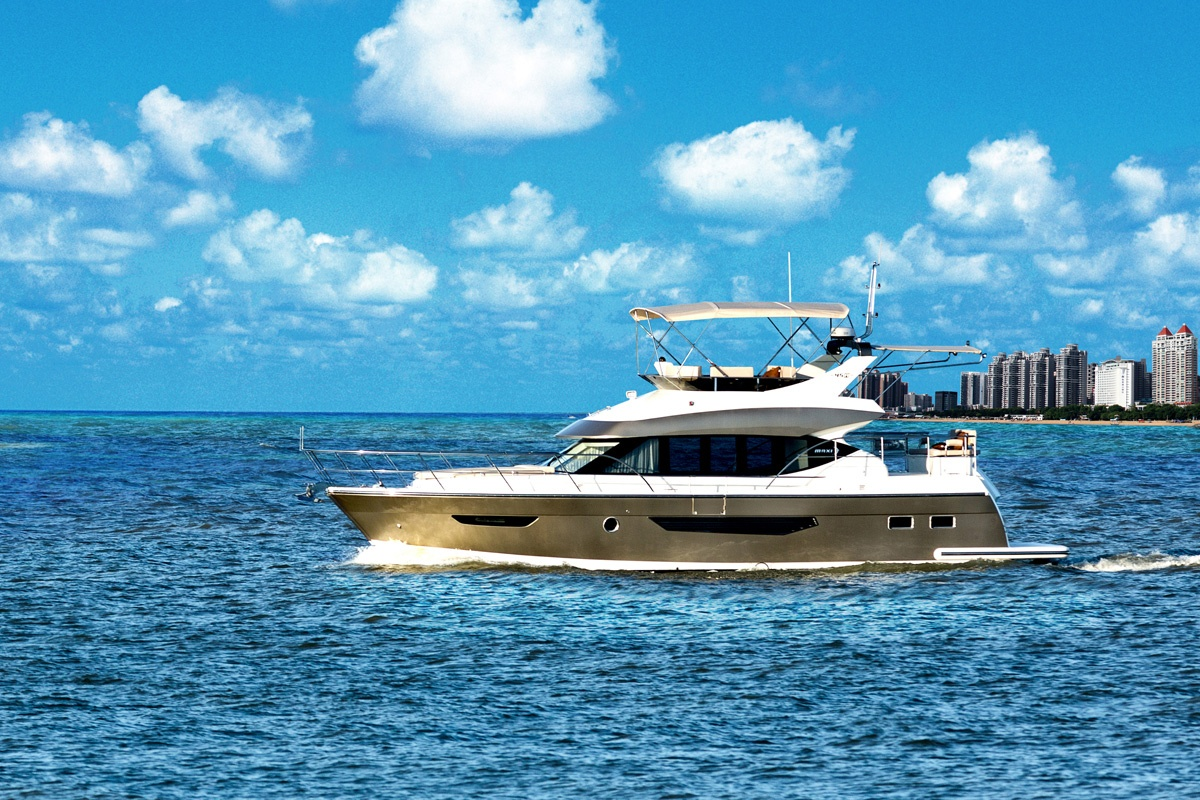yacht: (314, 264, 1068, 577)
